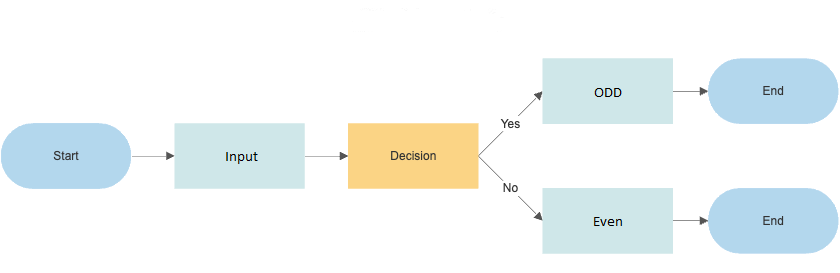arrow: (480, 155, 543, 225), (479, 91, 544, 155), (130, 150, 175, 162), (304, 149, 349, 161), (675, 213, 709, 227), (674, 84, 709, 97)
process: (540, 56, 675, 128), (541, 185, 675, 256), (172, 122, 306, 191), (346, 122, 480, 191)
terminator: (705, 184, 840, 256), (1, 119, 132, 193), (710, 56, 840, 125)
text: (387, 148, 440, 163), (220, 148, 259, 164), (587, 214, 625, 230), (48, 147, 81, 163), (592, 84, 624, 100), (757, 81, 786, 97), (759, 212, 785, 229), (498, 117, 523, 132), (499, 181, 519, 196)
